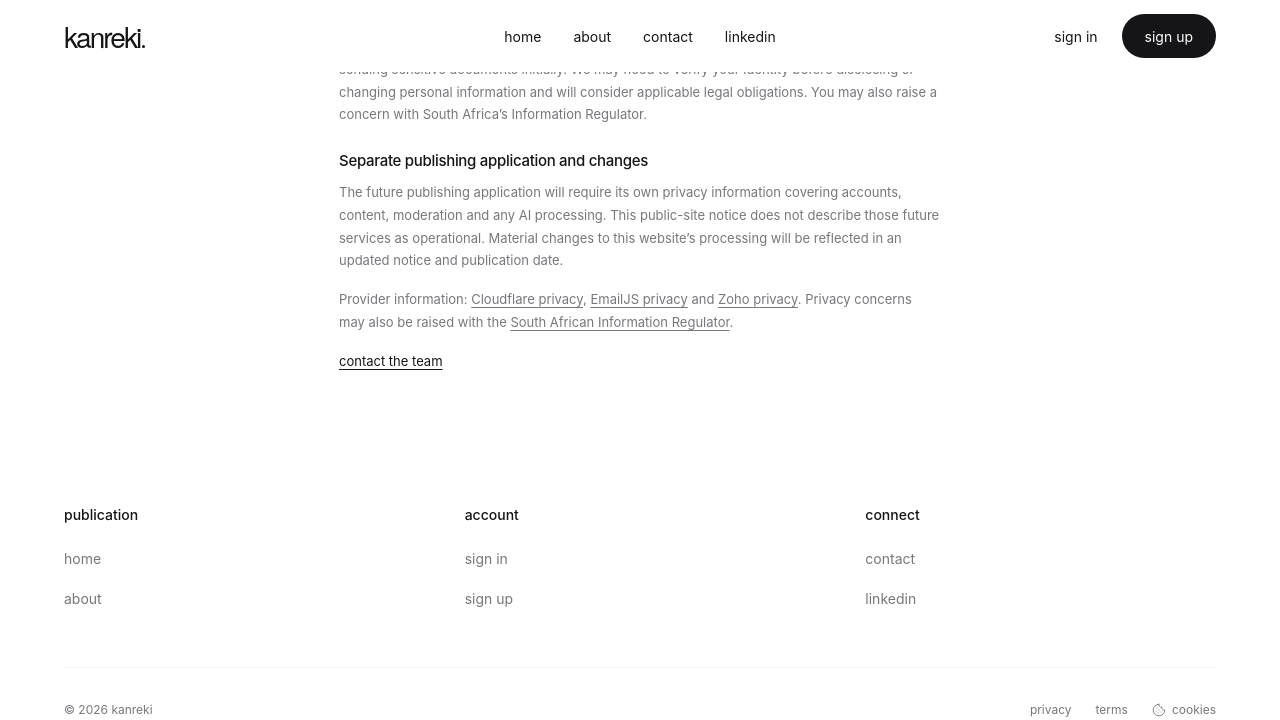
Scenario: publishes owner-authorized notices with a working privacy contact action
The image size is (1280, 720).
(page scrolled)
Click the link "contact the team": (391, 360) 339,352 -> 443,368
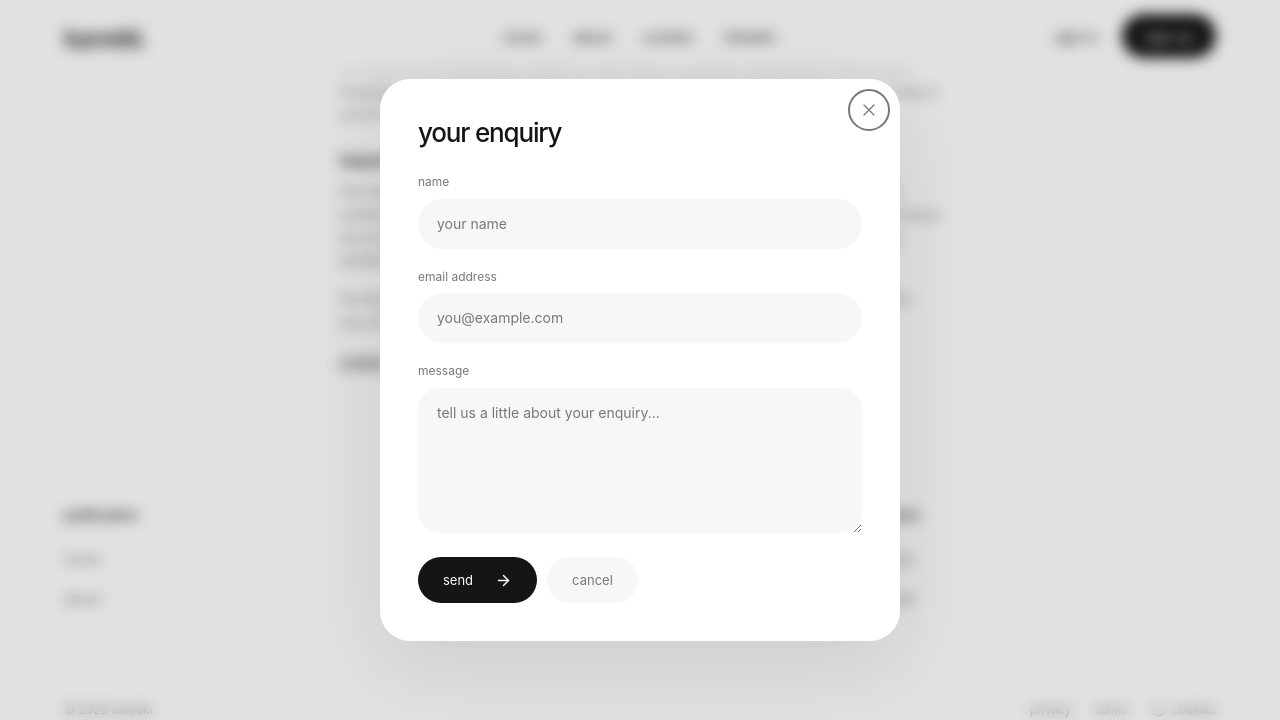
Expected: the dialog "your enquiry" is shown, 380,79 -> 900,641
